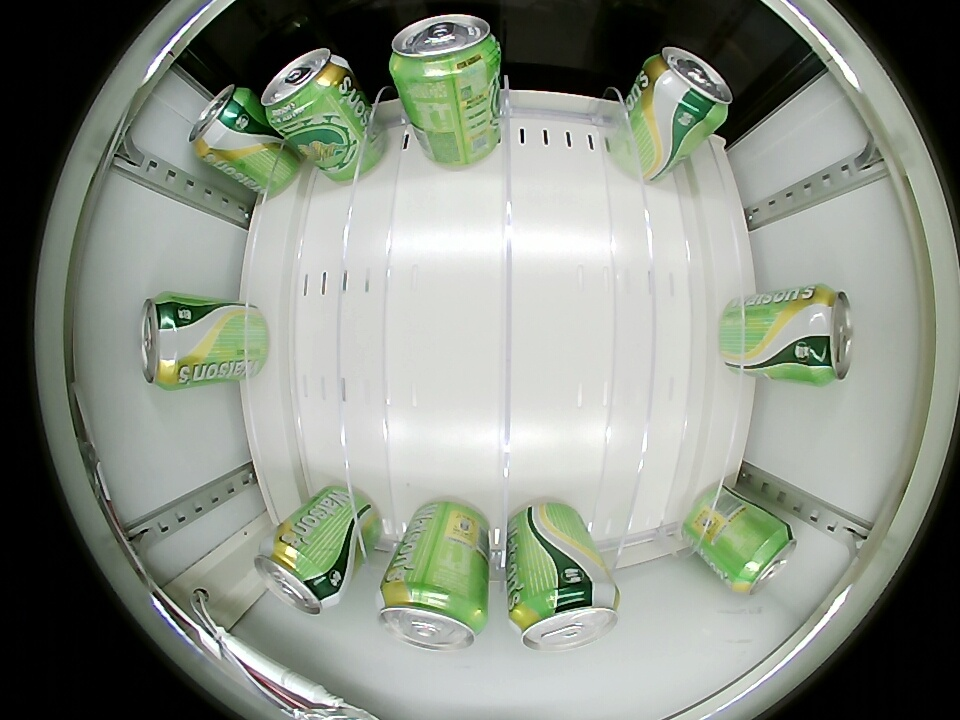quchenshixiangcao: (389, 14, 500, 91), (377, 576, 487, 650), (511, 577, 621, 651), (254, 532, 342, 616), (262, 48, 350, 131), (642, 46, 732, 125), (797, 286, 854, 383), (188, 83, 255, 164), (728, 517, 795, 594), (141, 294, 190, 389)
